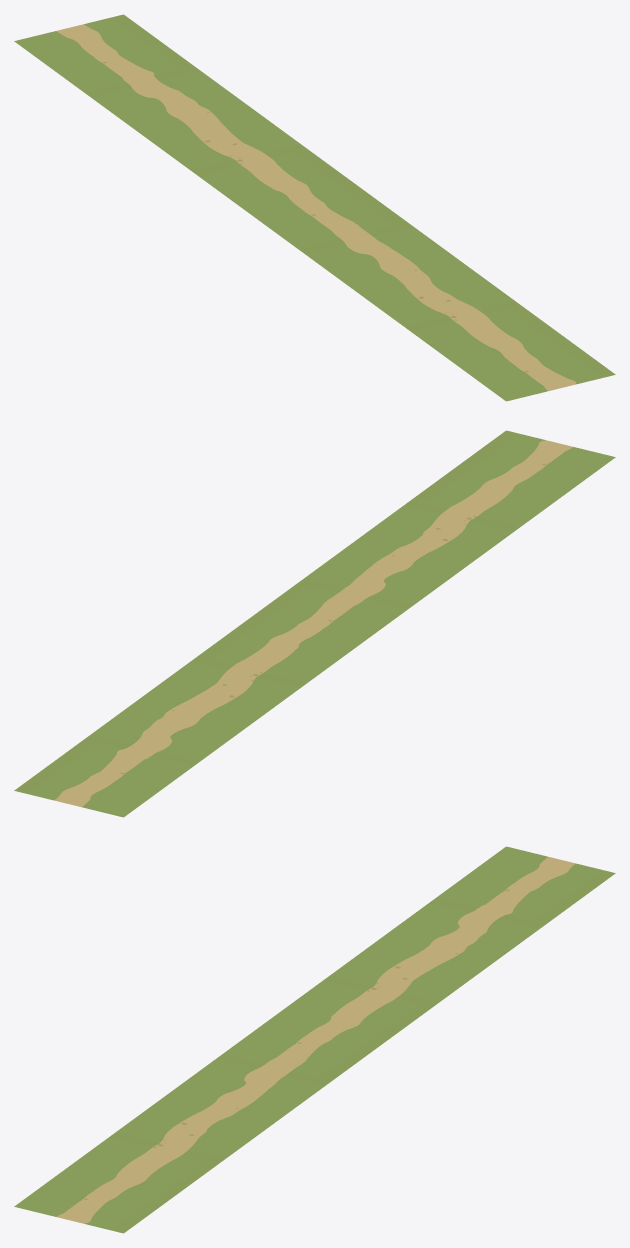
Rendered from Mesh_Adventure_Forest_Terrain.fbx.
The picture shows the model from 3 angles, top to bottom: view 1: azimuth 30°, elevation 25°; view 2: azimuth 150°, elevation 25°; view 3: azimuth 330°, elevation 25°; orthographic projection.
Parts seen in each view (by area): view 1: Mesh_Adventure_Forest_Terrain; view 2: Mesh_Adventure_Forest_Terrain; view 3: Mesh_Adventure_Forest_Terrain.
Boxes of the visible parts, x1,y1,x2,y2 form: Mesh_Adventure_Forest_Terrain: (14,14,615,401); Mesh_Adventure_Forest_Terrain: (14,430,615,817); Mesh_Adventure_Forest_Terrain: (14,846,615,1233).
Bounding box in the file's own units: 451 × 0.1003 × 3500.
